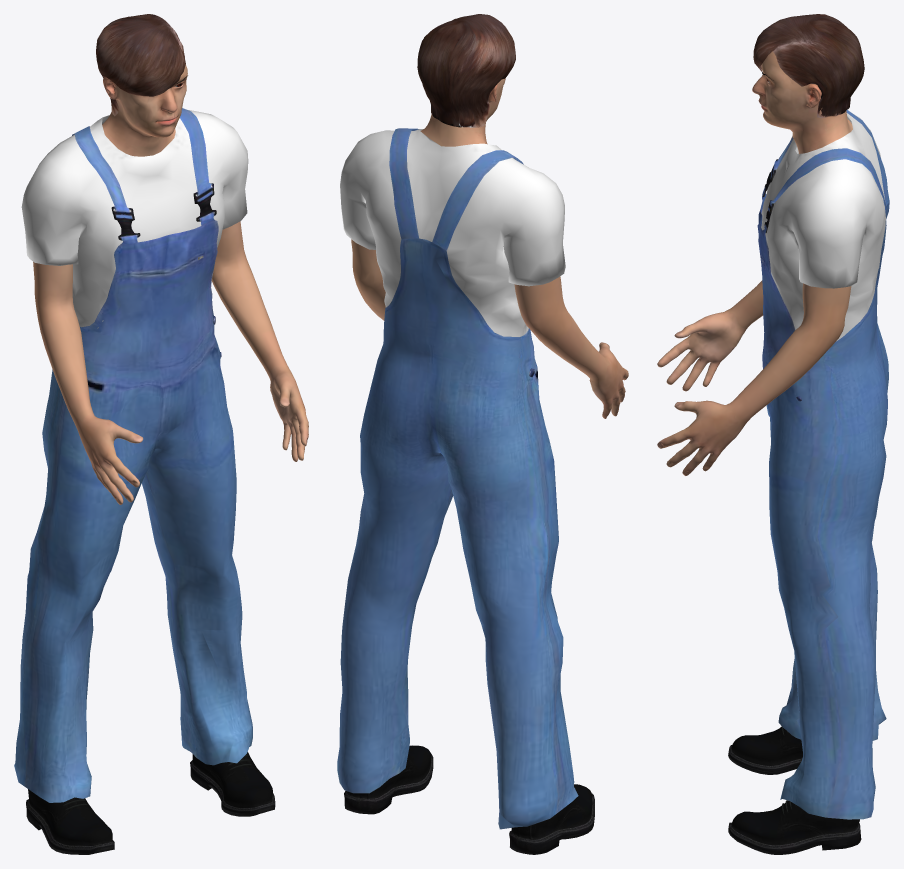
File: man-overalls.glb
3 renders of one model, left to right at view 1: azimuth 30°, elevation 25°; view 2: azimuth 150°, elevation 25°; view 3: azimuth 270°, elevation 25°, orthographic.
Visible parts, largest first — view 1: Human.male_worksuit01.001, Human.001, Human.shoes03.001, Human.short03.001; view 2: Human.male_worksuit01.001, Human.001, Human.short03.001, Human.shoes03.001; view 3: Human.male_worksuit01.001, Human.001, Human.shoes03.001, Human.short03.001.
Boxes of the visible parts, x1=… form: Human.male_worksuit01.001: x1=14, y1=108, x2=252, y2=802; Human.001: x1=33, y1=64, x2=308, y2=504; Human.shoes03.001: x1=26, y1=752, x2=275, y2=854; Human.short03.001: x1=96, y1=14, x2=185, y2=116; Human.male_worksuit01.001: x1=337, y1=128, x2=578, y2=829; Human.001: x1=351, y1=78, x2=628, y2=418; Human.short03.001: x1=417, y1=14, x2=515, y2=127; Human.shoes03.001: x1=344, y1=745, x2=594, y2=854; Human.male_worksuit01.001: x1=757, y1=110, x2=889, y2=819; Human.001: x1=657, y1=51, x2=852, y2=475; Human.shoes03.001: x1=728, y1=726, x2=861, y2=854; Human.short03.001: x1=753, y1=14, x2=864, y2=118.
Size of the model in its own units: 0.5131 by 1.78 by 0.4797.
Materials: 6 (6 with a texture image).
